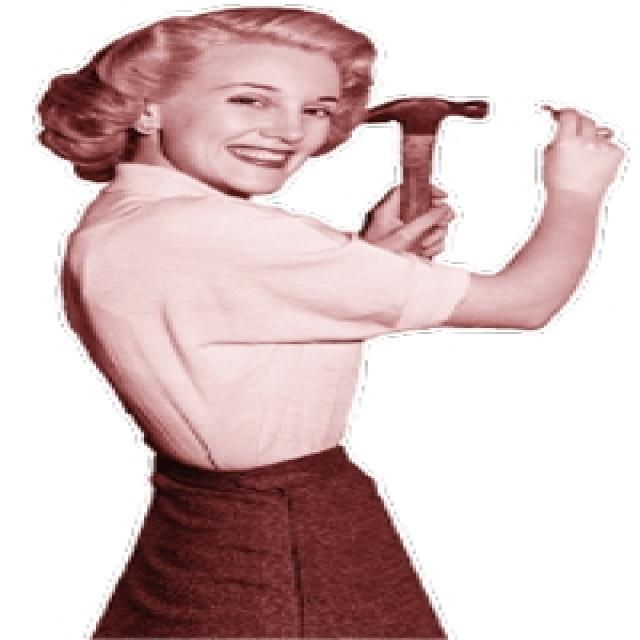hammer: (352, 90, 496, 229)
